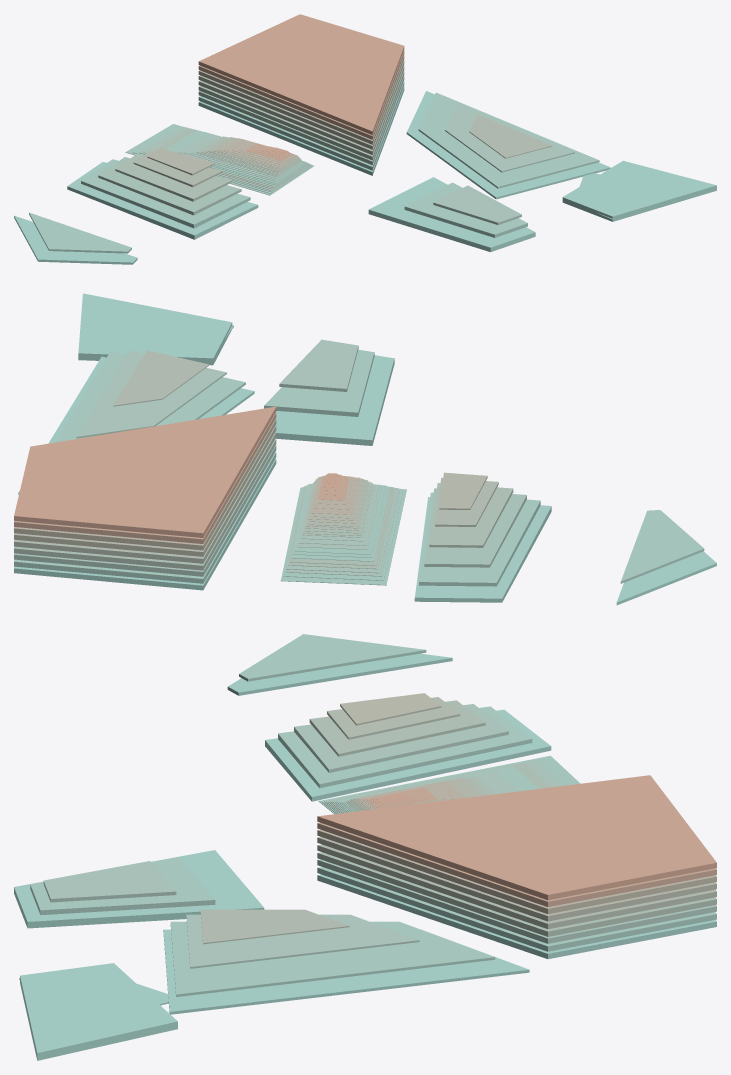
The model's file is Mani_pro.fbx.
3 views of the same model, one above another, from view 1: azimuth 30°, elevation 25°; view 2: azimuth 150°, elevation 25°; view 3: azimuth 270°, elevation 25° (orthographic). The views are drawn at different scales.
Visible parts, largest first — view 1: pCube70, pCube71, pCube68, pCube72, pCube69, pCube7, pCube67; view 2: pCube70, pCube68, pCube71, pCube69, pCube72, pCube7, pCube67; view 3: pCube70, pCube71, pCube68, pCube72, pCube7, pCube67, pCube69.
Boxes of the visible parts, left/top/right/bottom form: pCube70: left=198, top=14, right=404, bottom=175; pCube71: left=406, top=91, right=610, bottom=199; pCube68: left=67, top=148, right=258, bottom=239; pCube72: left=368, top=177, right=535, bottom=252; pCube69: left=125, top=124, right=313, bottom=195; pCube7: left=562, top=160, right=716, bottom=221; pCube67: left=14, top=212, right=137, bottom=264; pCube70: left=14, top=406, right=276, bottom=590; pCube68: left=414, top=472, right=551, bottom=602; pCube71: left=18, top=350, right=254, bottom=494; pCube69: left=281, top=473, right=406, bottom=585; pCube72: left=264, top=339, right=394, bottom=445; pCube7: left=78, top=293, right=232, bottom=365; pCube67: left=616, top=510, right=716, bottom=605; pCube70: left=317, top=775, right=716, bottom=959; pCube71: left=163, top=909, right=529, bottom=1014; pCube68: left=265, top=693, right=551, bottom=801; pCube72: left=14, top=850, right=264, bottom=928; pCube7: left=20, top=963, right=177, bottom=1060; pCube67: left=227, top=634, right=452, bottom=695; pCube69: left=318, top=755, right=580, bottom=813.
Bounding box in the file's own units: 1153 × 91.64 × 829.
